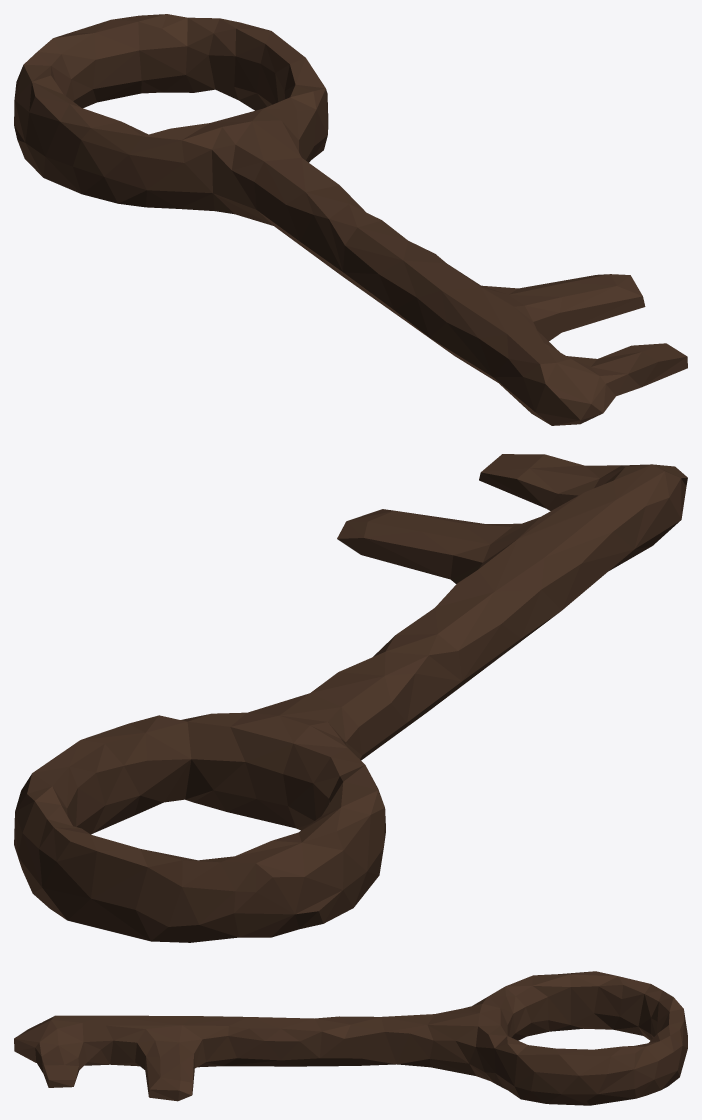
Rendered from Key.glb.
The picture shows the model from 3 angles, top to bottom: view 1: azimuth 30°, elevation 25°; view 2: azimuth 150°, elevation 25°; view 3: azimuth 270°, elevation 25°; orthographic projection. The views are drawn at different scales.
Visible parts, largest first — view 1: Key; view 2: Key; view 3: Key.
Boxes of the visible parts, x1,y1,x2,y2 form: Key: (14,14,687,425); Key: (14,454,687,942); Key: (14,971,687,1105).
Bounding box in the file's own units: 8.54 × 2.27 × 23.92.
